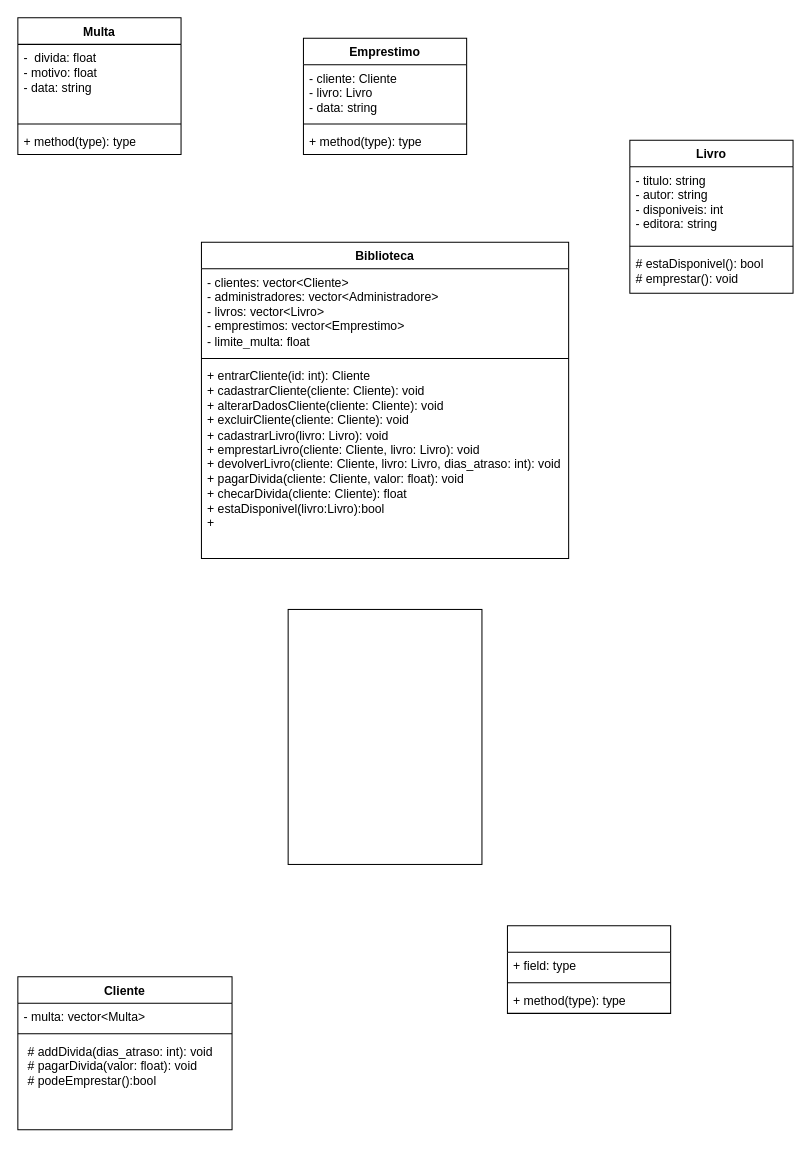
Some shapes in this 811 by 1151 pixel diagram are drawn without their labels. Here are the shapes that lost their labels. From the top down, the box of each, then its label:
(287, 608, 482, 864): Usuario - id: int - nome: string - idade: int - telefone: string
(506, 925, 671, 1013): Administrador
